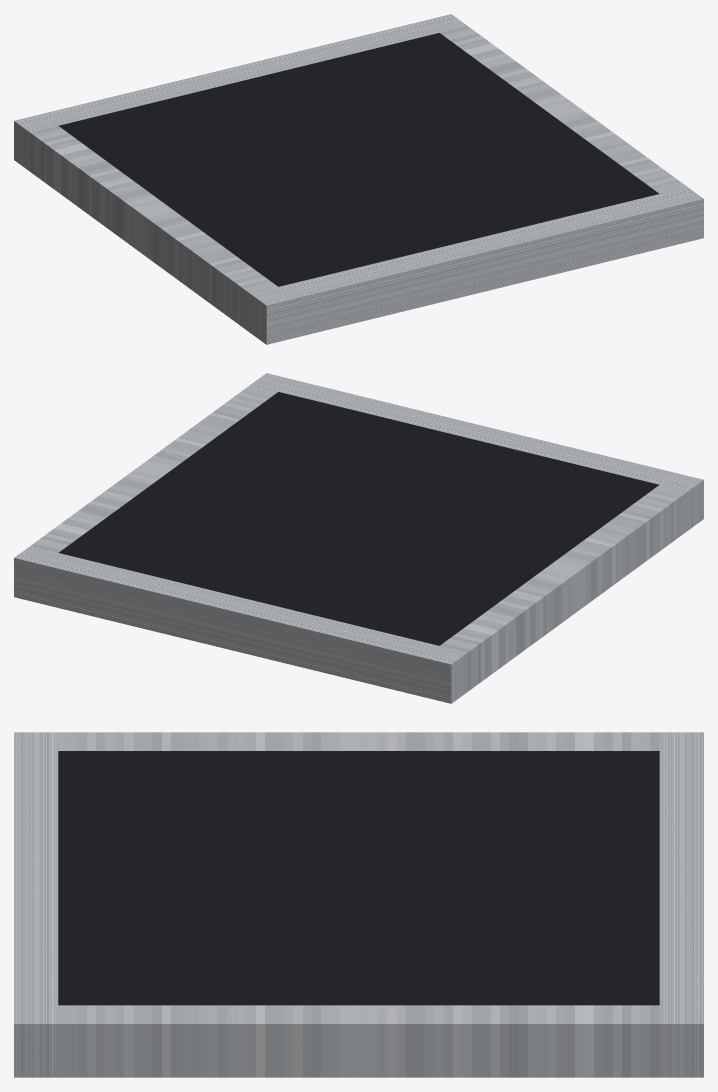
File: vent.glb
The picture shows the model from 3 angles, top to bottom: view 1: azimuth 30°, elevation 25°; view 2: azimuth 150°, elevation 25°; view 3: azimuth 270°, elevation 25°; orthographic projection. The views are drawn at different scales.
Parts seen in each view (by area): view 1: Vent; view 2: Vent; view 3: Vent.
Part boxes in pixels (x1,y1,x2,y2): Vent: (14,14,703,344); Vent: (14,373,703,703); Vent: (14,732,703,1077).
Bounding box in the file's own units: 0.7 × 0.06 × 0.7.
Materials: 2 (1 with a texture image).
